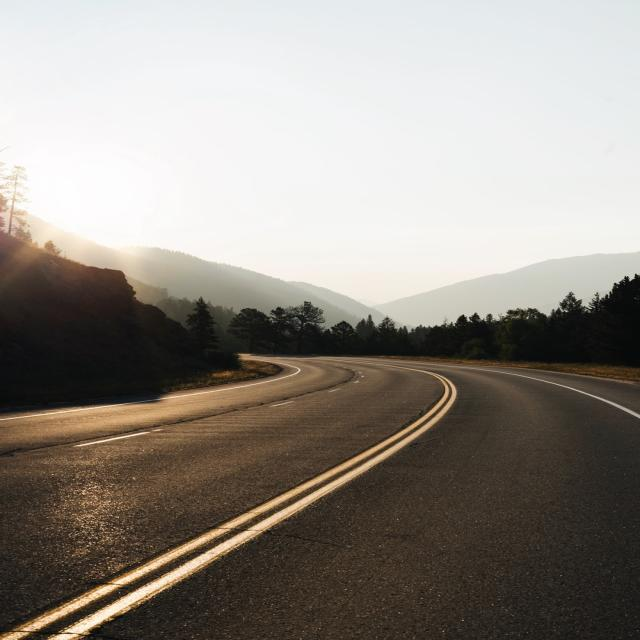Clean road: (0, 344, 640, 640)
